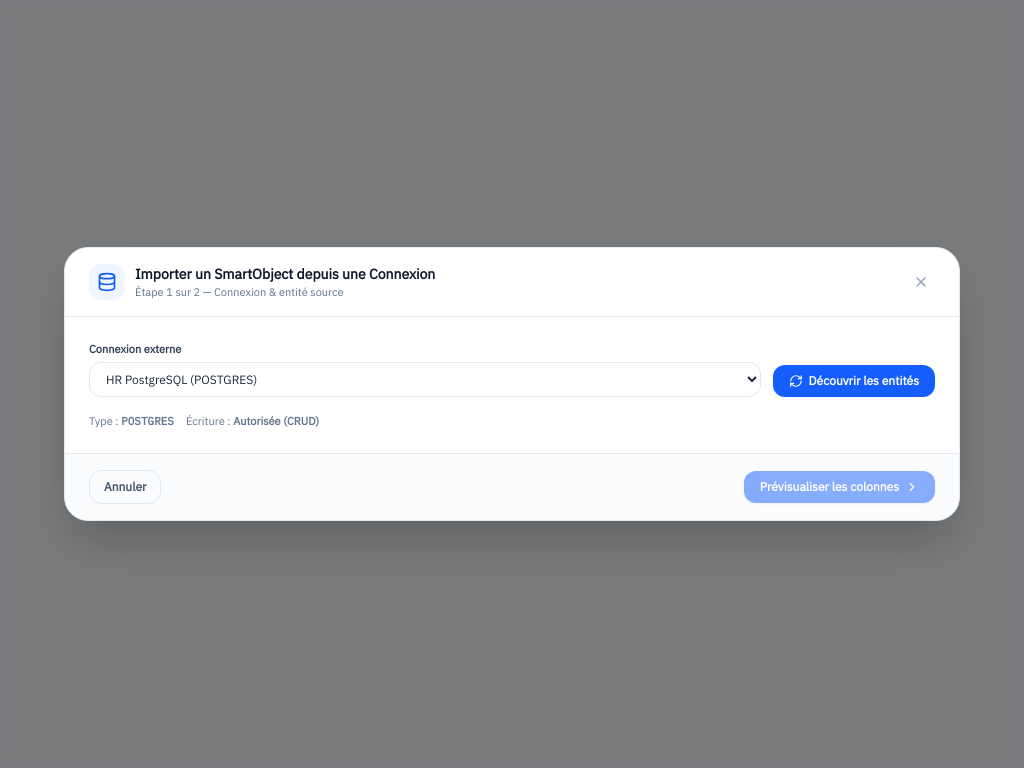
Test: ImportSmartObjectWizardModal (Étape E.2c) › previews discovered columns, pre-checks sensitive masked columns, and displays warning when no primary key is selected
Discover entities on selected connection
Click the button with test id "discover-entities-btn": click(854, 381) left=773, top=365, right=935, bottom=397
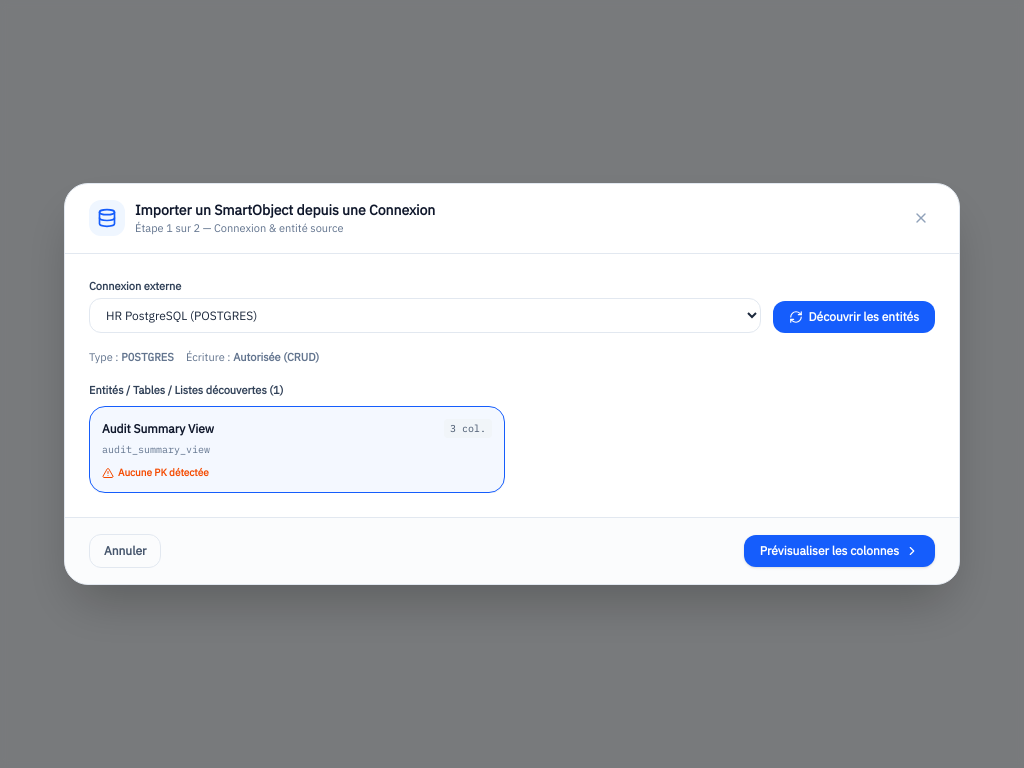
Expected: the button with test id "discovered-entity-audit_summary_view" is shown, left=89, top=406, right=505, bottom=493
Proceed to Step 2 (Column Preview)
Click the button with test id "import-next-step-btn": click(839, 551) left=744, top=535, right=935, bottom=567
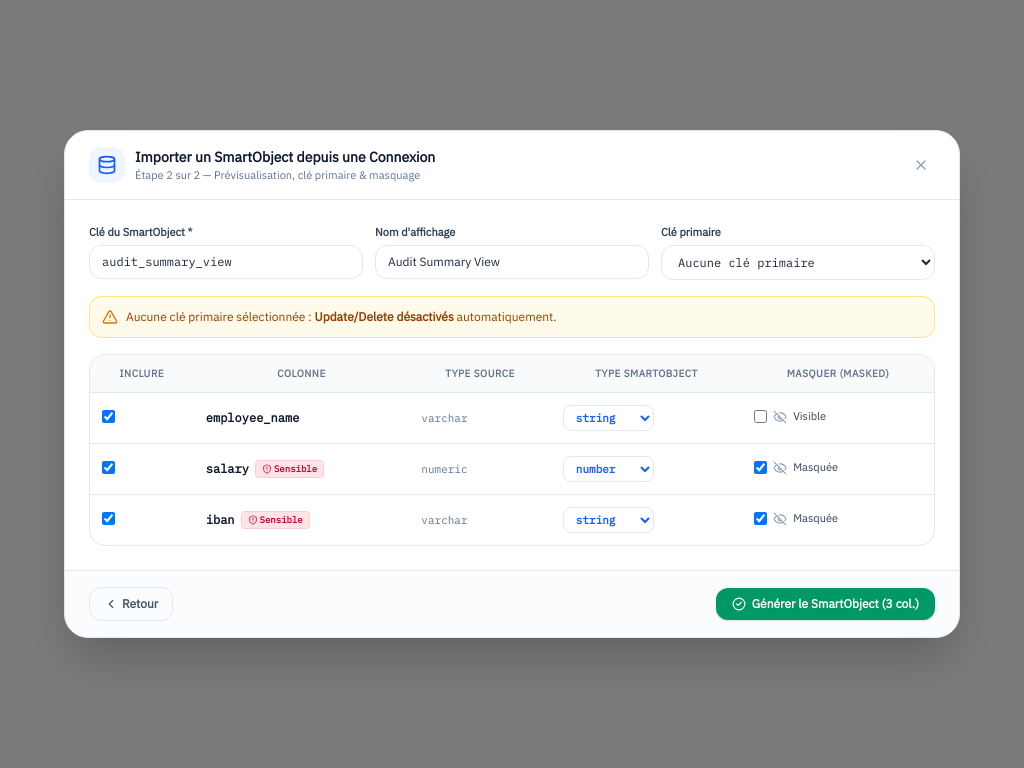
Expected: the table with test id "import-columns-preview-table" is shown, left=90, top=355, right=934, bottom=545
Expected: the checkbox with test id "col-include-employee_name" is checked, left=102, top=410, right=115, bottom=423
Expected: the checkbox with test id "col-include-salary" is checked, left=102, top=461, right=115, bottom=474
Selecting a primary key removes the warning
Select "employee_name" in the dropdown with test id "import-so-pk-select": (798, 262) left=661, top=245, right=935, bottom=280
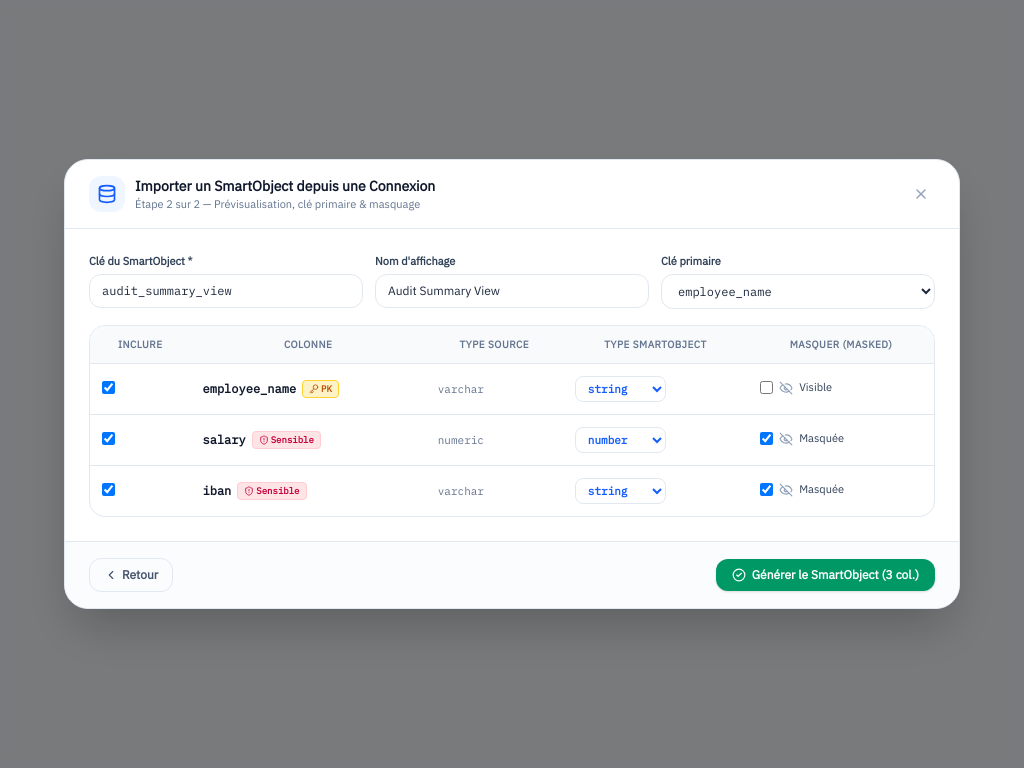
Expected: the message with test id "no-pk-warning" is gone
